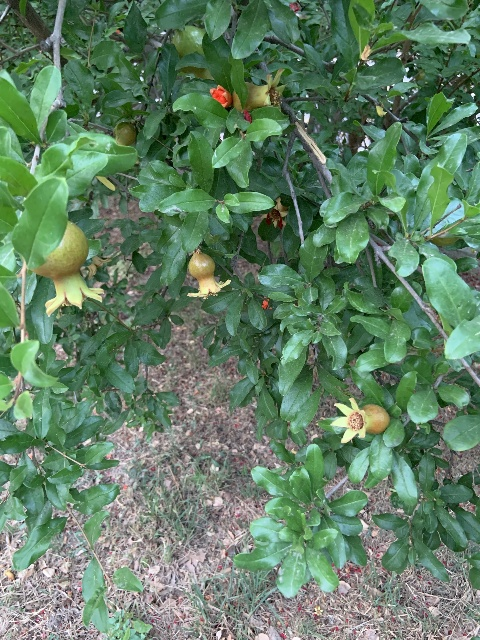early-fruit: (330, 396, 390, 443), (233, 68, 287, 110), (185, 250, 230, 298)
flower: (209, 85, 232, 108)
mid-growth: (26, 220, 105, 316), (171, 25, 207, 80), (114, 122, 136, 145)
